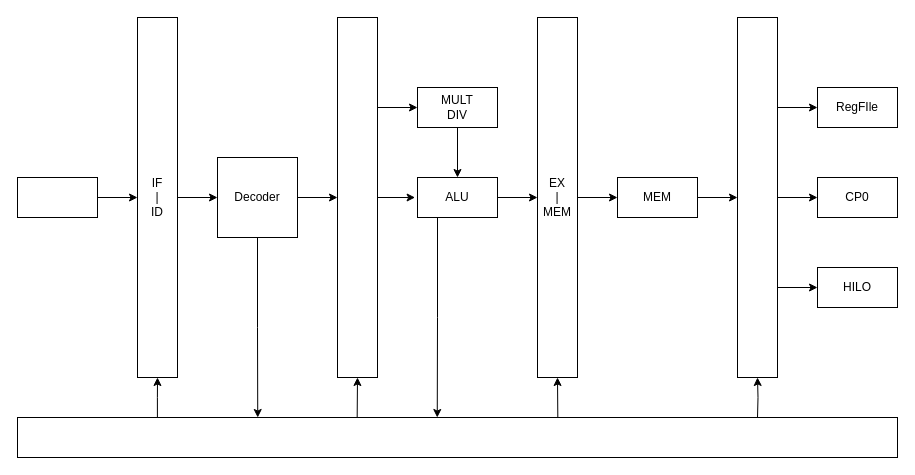
Image size: 915x475. Some labels were removed from this diagram. Each missing label, with the centre of its shape:
"ID | EX" goes at pixel 357 197.
"MEM | WB" goes at pixel 757 197.
"PC" goes at pixel 57 197.
"PipelineController" goes at pixel 457 437.
